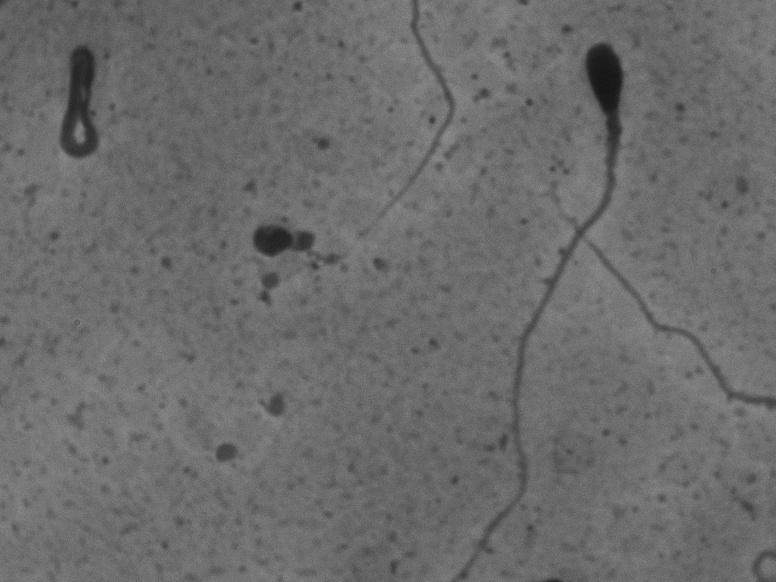Abnormal: (463, 31, 652, 569)
